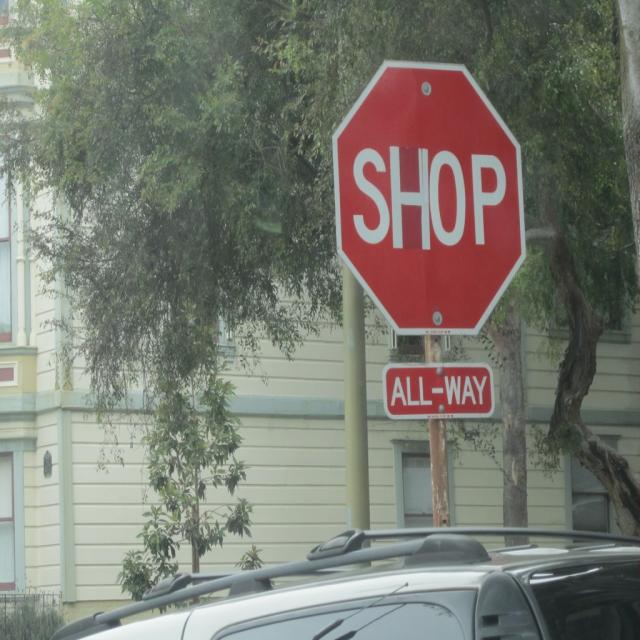Stop-sign: (332, 58, 524, 335)
